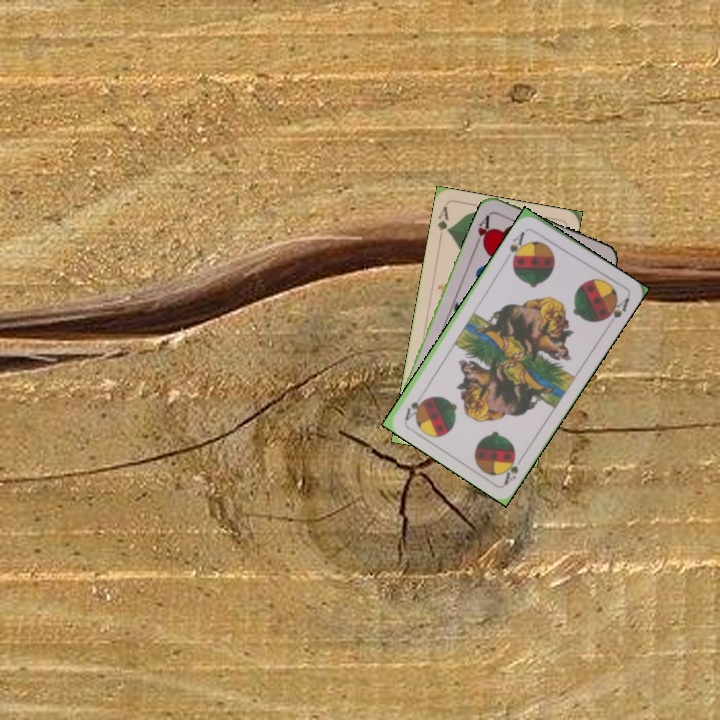GA: (433, 202, 452, 242)
HA: (471, 209, 494, 249)
SA: (499, 450, 527, 487), (506, 227, 529, 265)
